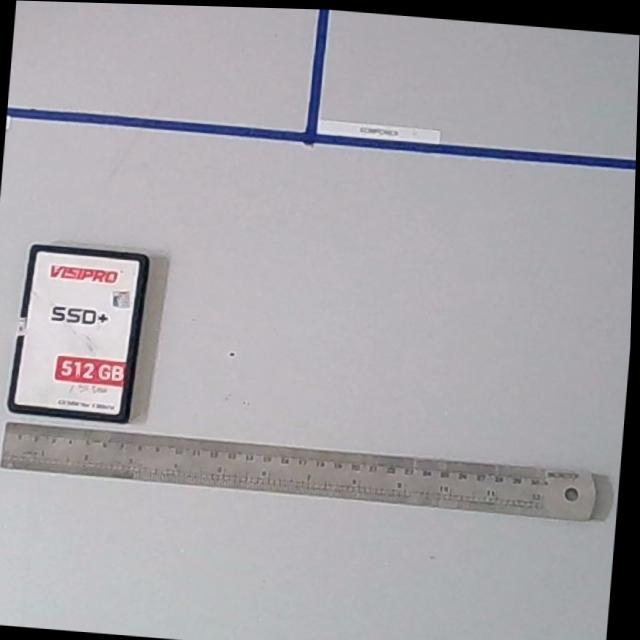ruler: (3, 420, 605, 520)
ssd: (12, 242, 153, 423)
